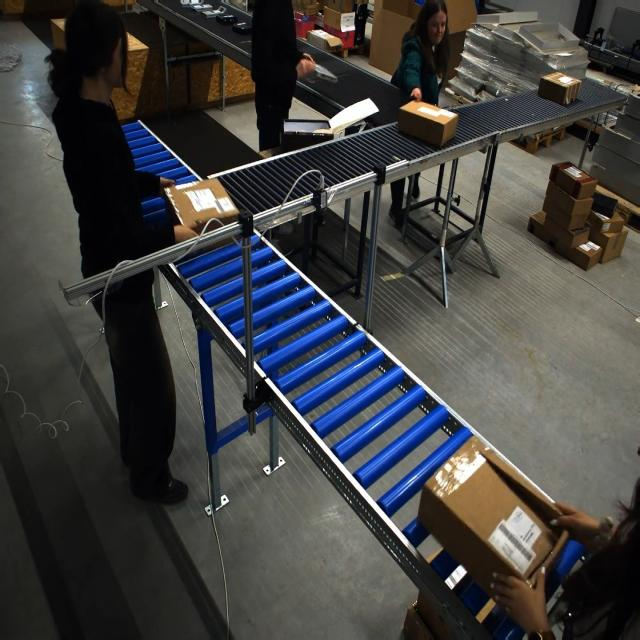box: (419, 441, 568, 607), (155, 129, 331, 244), (161, 178, 241, 246), (281, 98, 378, 151), (398, 99, 458, 150)
product: (201, 6, 225, 18), (232, 21, 251, 34), (216, 14, 236, 24), (193, 3, 212, 12)
